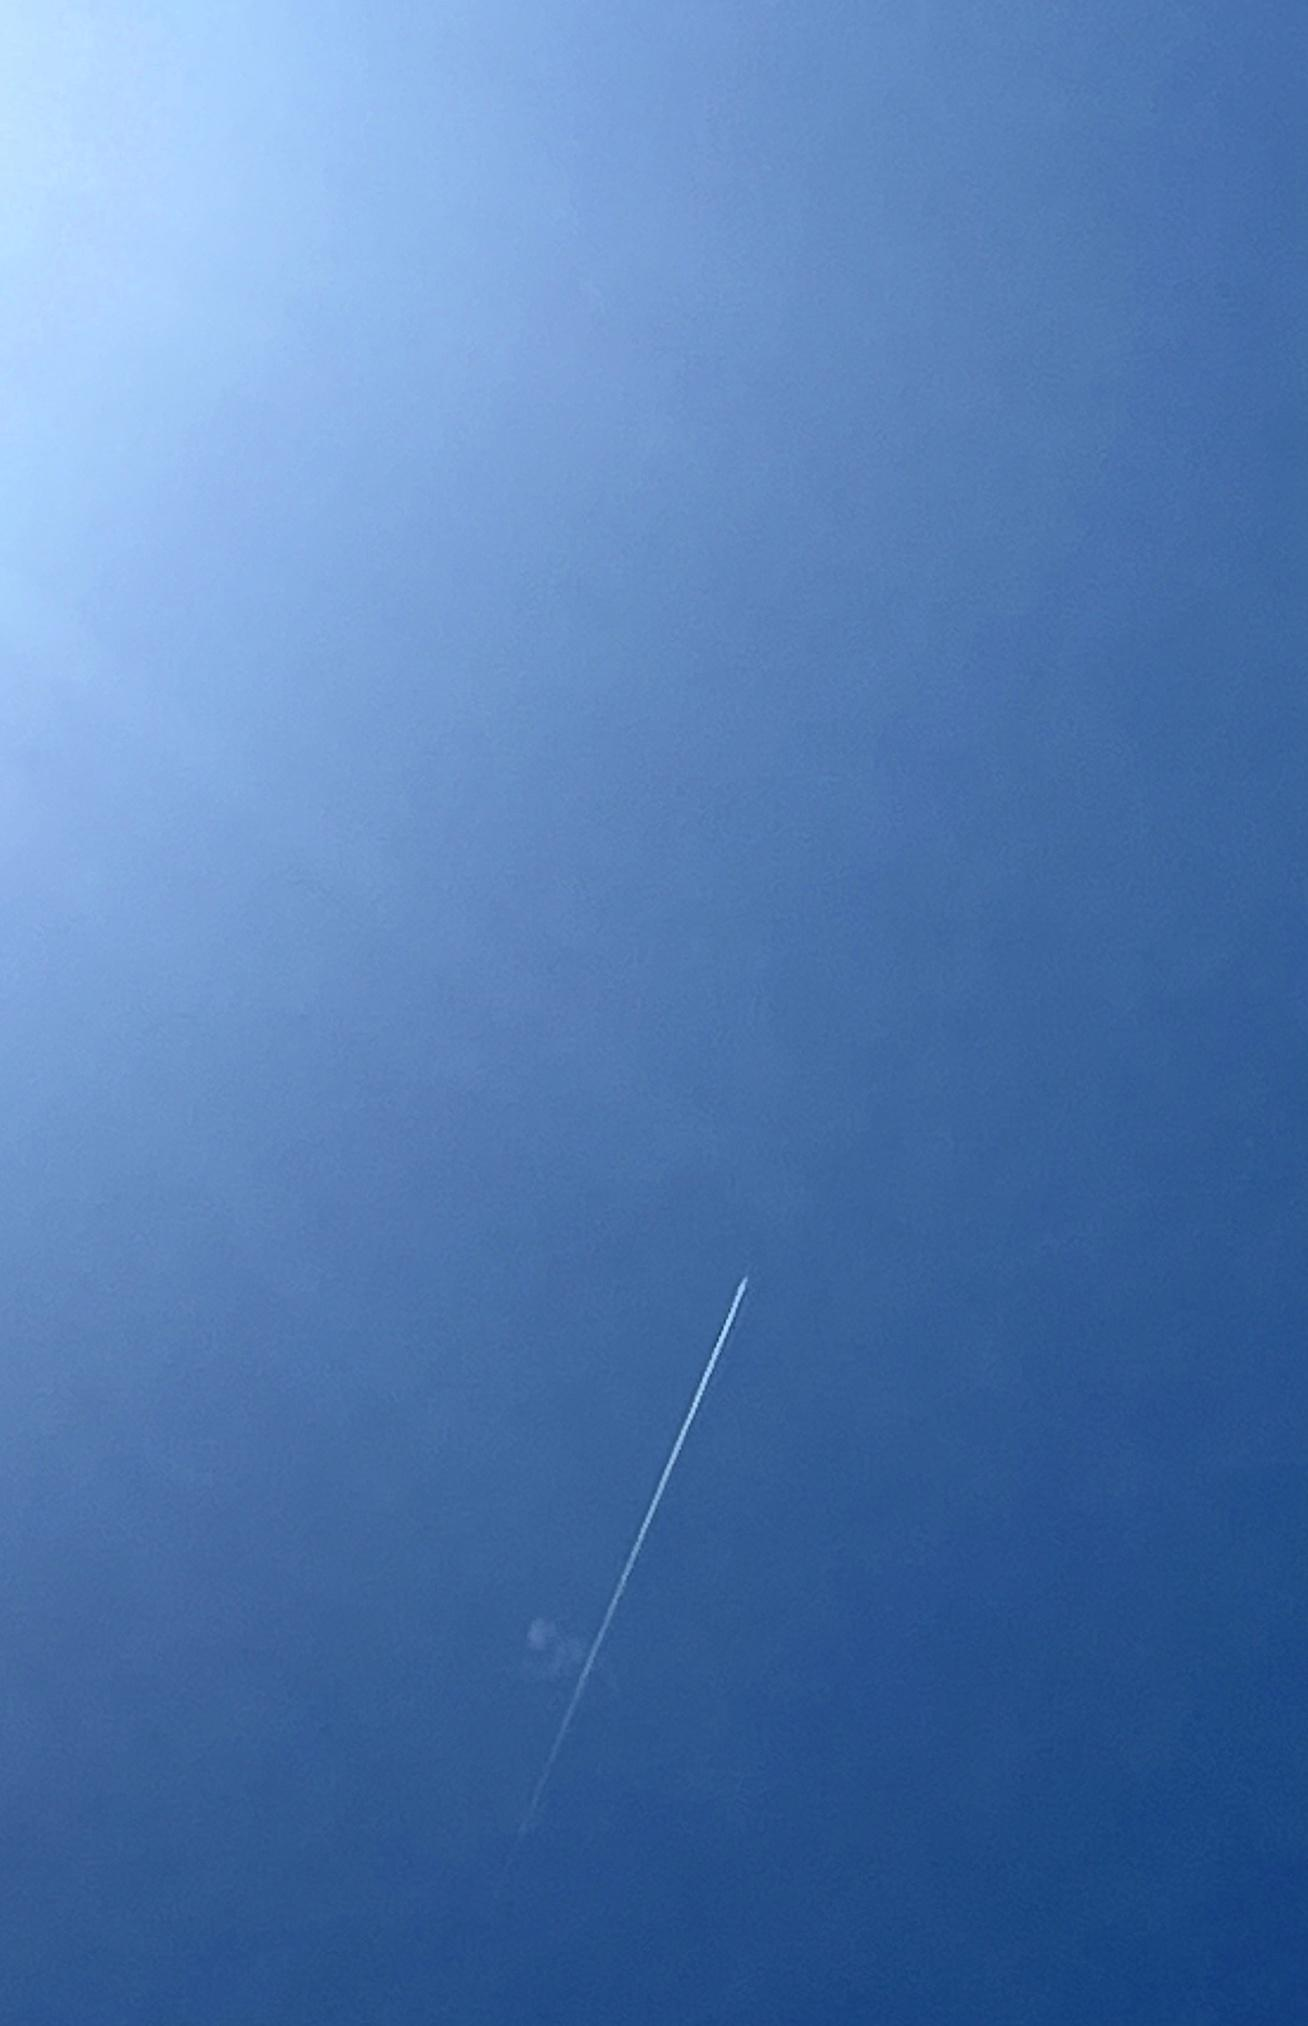Plane: (651, 1184, 839, 1457)
